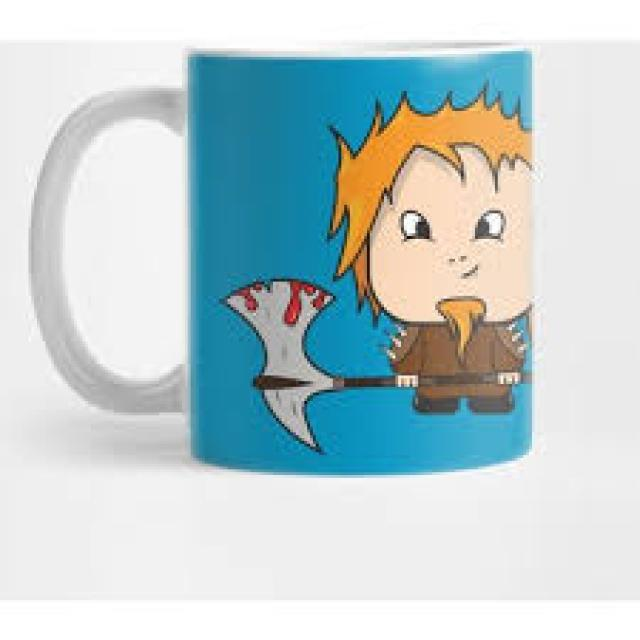taza: (27, 42, 537, 476)
